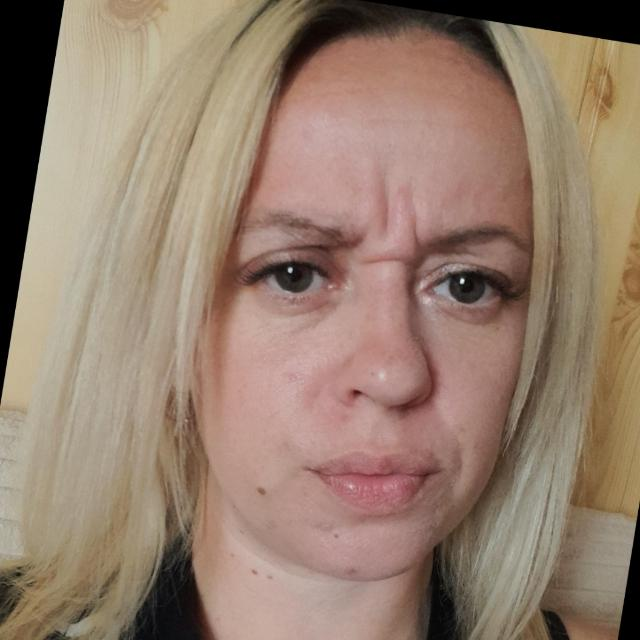Disgust: (197, 115, 555, 617)
